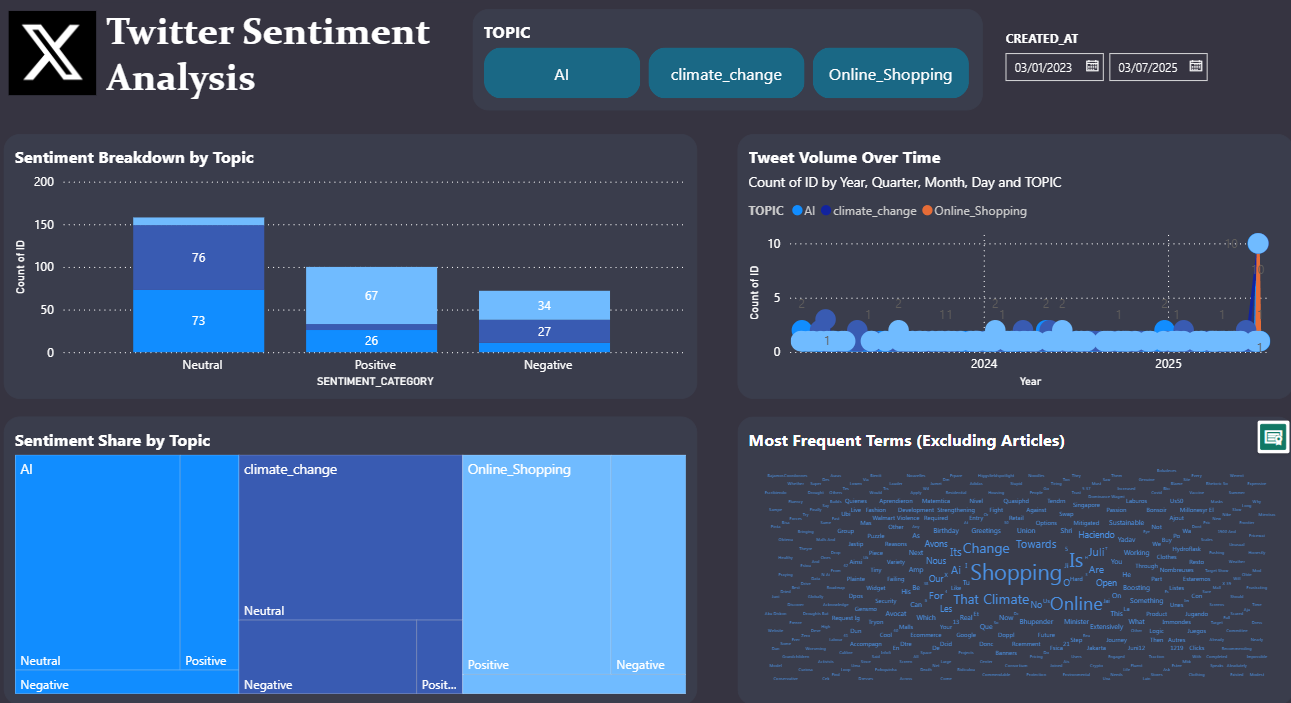

What the dashboard file says about the page in this screenshot:
{"tool":"powerbi","page":{"name":"Page 1","canvas":[1280,720],"ordinal":0},"visuals":[{"type":"columnChart","title":"Sentiment Breakdown by Topic","fields":{"Category":["TweetsScored.SENTIMENT_CATEGORY"],"Y":["TweetsScored.ID"],"Series":["TweetsScored.TOPIC"]},"box":[18.3,161.4,678.7,259.2],"z":0},{"type":"lineChart","title":"Tweet Volume Over Time","fields":{"Y":["TweetsScored.ID"],"Category":["TweetsScored.CREATED_AT.Variation.Date Hierarchy.Year","TweetsScored.CREATED_AT.Variation.Date Hierarchy.Quarter","TweetsScored.CREATED_AT.Variation.Date Hierarchy.Month","TweetsScored.CREATED_AT.Variation.Date Hierarchy.Day"],"Series":["TweetsScored.TOPIC"]},"box":[736.1,161.4,544.2,259.2],"z":1000},{"type":"WordCloud5550983e166911eebe560242ac120002","title":"Most Frequent Terms (Excluding Articles)","fields":{"categories":["TweetsScored.Text_No_Articles"]},"box":[736.1,437.8,544.2,282.5],"z":2000},{"type":"treemap","title":"Sentiment Share by Topic","fields":{"Group":["TweetsScored.TOPIC"],"Values":["TweetsScored.ID"],"Details":["TweetsScored.SENTIMENT_CATEGORY"]},"box":[18.3,437.8,678.7,282.5],"z":3000},{"type":"slicer","fields":{"Values":["TweetsScored.CREATED_AT"]},"box":[985.6,39.1,245.8,99],"z":4000},{"type":"advancedSlicerVisual","fields":{"Values":["TweetsScored.TOPIC"]},"box":[476.9,39.1,498.9,99],"z":5000},{"type":"textbox","box":[113.7,33,363.2,112.5],"z":6000},{"type":"image","box":[18.3,33,95.4,99],"z":7000}]}

Visuals, with their boxes on the page's 1280x720 design canvas (x1, y1, x2, y2). These are canvas units, not pixel positions in the 1291x703 screenshot, which may show the page scaled, cropped or inside an application window:
"Sentiment Breakdown by Topic" columnChart: (x1=18, y1=161, x2=697, y2=421)
"Tweet Volume Over Time" lineChart: (x1=736, y1=161, x2=1280, y2=421)
"Most Frequent Terms (Excluding Articles)" WordCloud5550983e166911eebe560242ac120002: (x1=736, y1=438, x2=1280, y2=720)
"Sentiment Share by Topic" treemap: (x1=18, y1=438, x2=697, y2=720)
slicer - TweetsScored.CREATED_AT: (x1=986, y1=39, x2=1231, y2=138)
advancedSlicerVisual - TweetsScored.TOPIC: (x1=477, y1=39, x2=976, y2=138)
textbox: (x1=114, y1=33, x2=477, y2=146)
image: (x1=18, y1=33, x2=114, y2=132)
